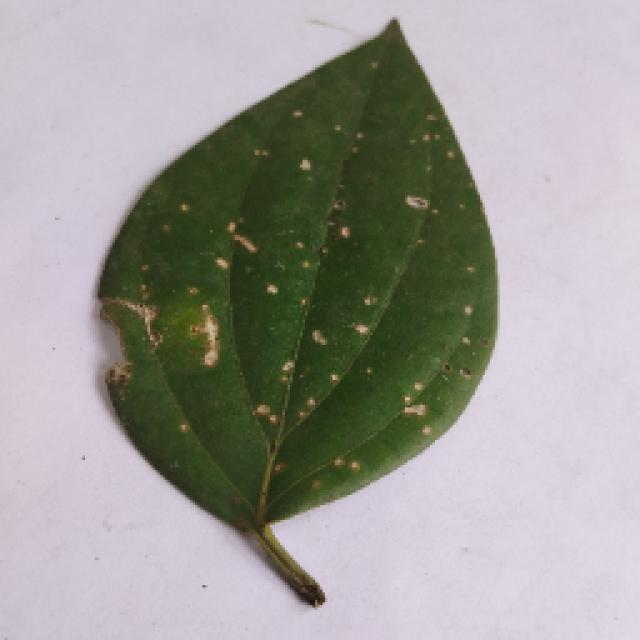pollu-disease: (95, 18, 495, 600)
